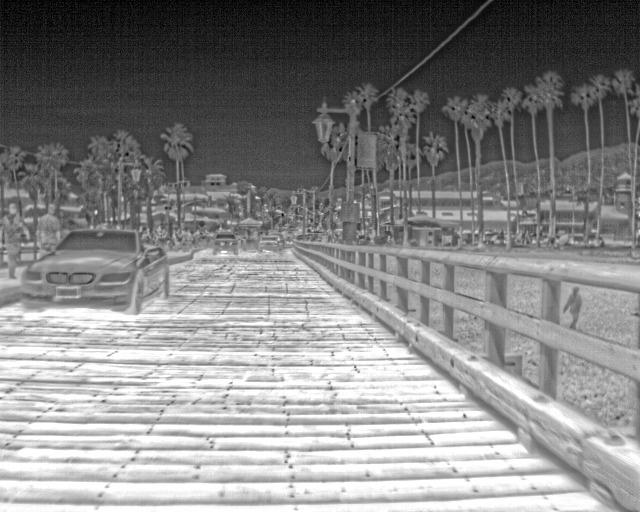bicycle: (19, 229, 169, 313), (212, 229, 238, 255), (256, 234, 284, 253)
empty: (2, 197, 32, 280), (33, 200, 64, 266), (561, 285, 581, 330)
